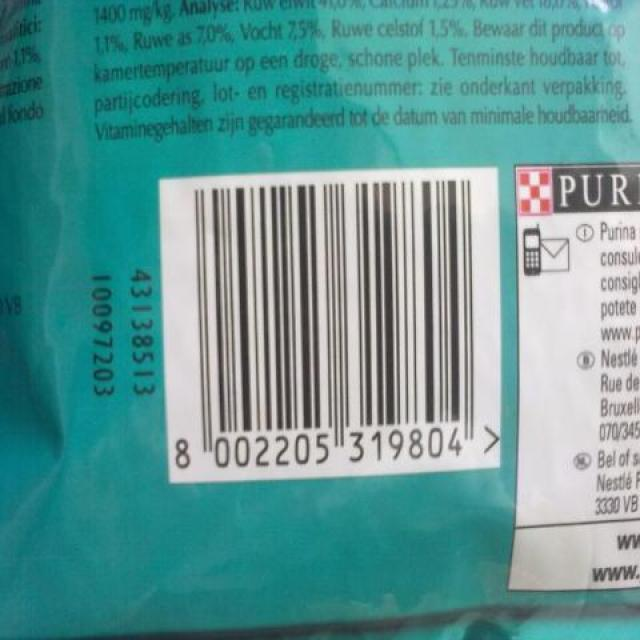Barcode: (156, 165, 505, 487)
